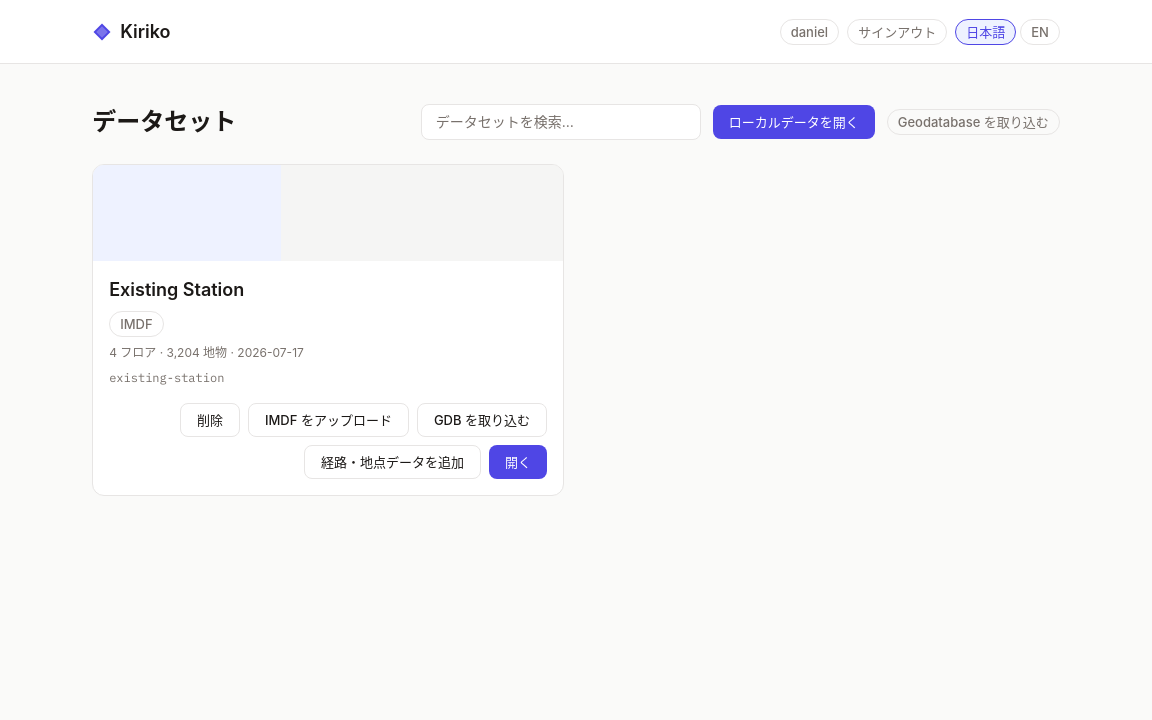
GalleryPage › opens IMDF version upload for the selected venue
Check: the heading "Existing Station" is shown, box [109,279,244,300]
Click the button "EN" at [1040, 32], box [1020,18,1060,44]
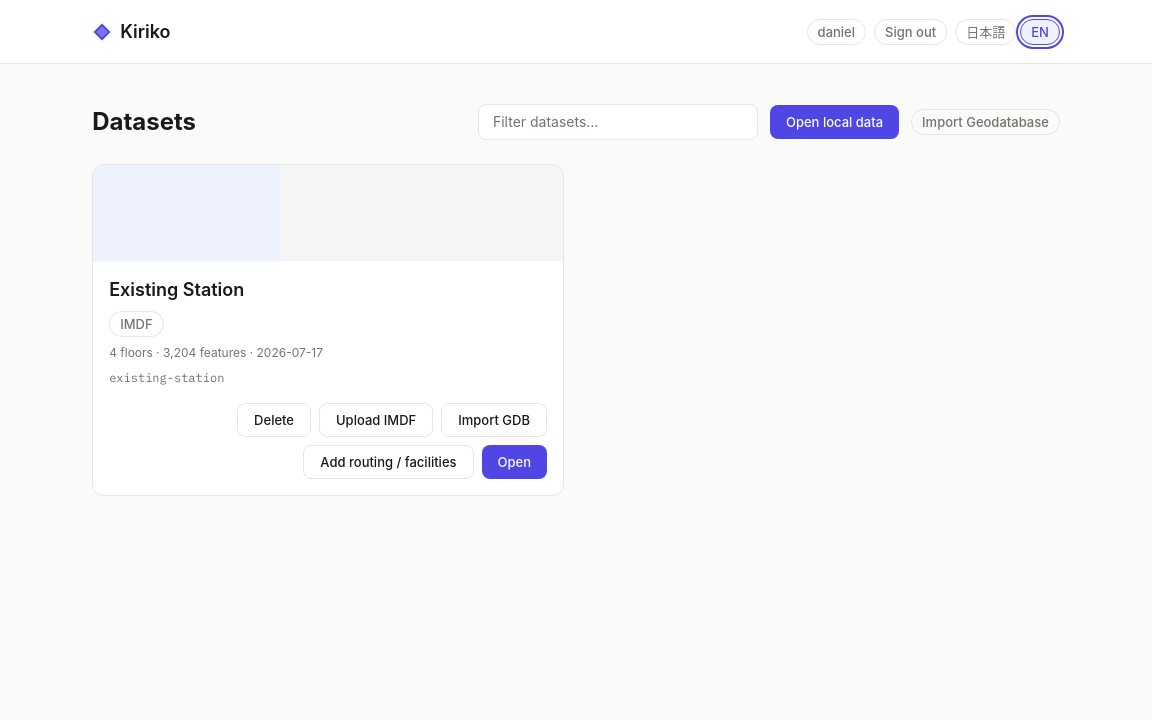
Click the button "Upload IMDF" at [376, 420], box [319,403,433,437]
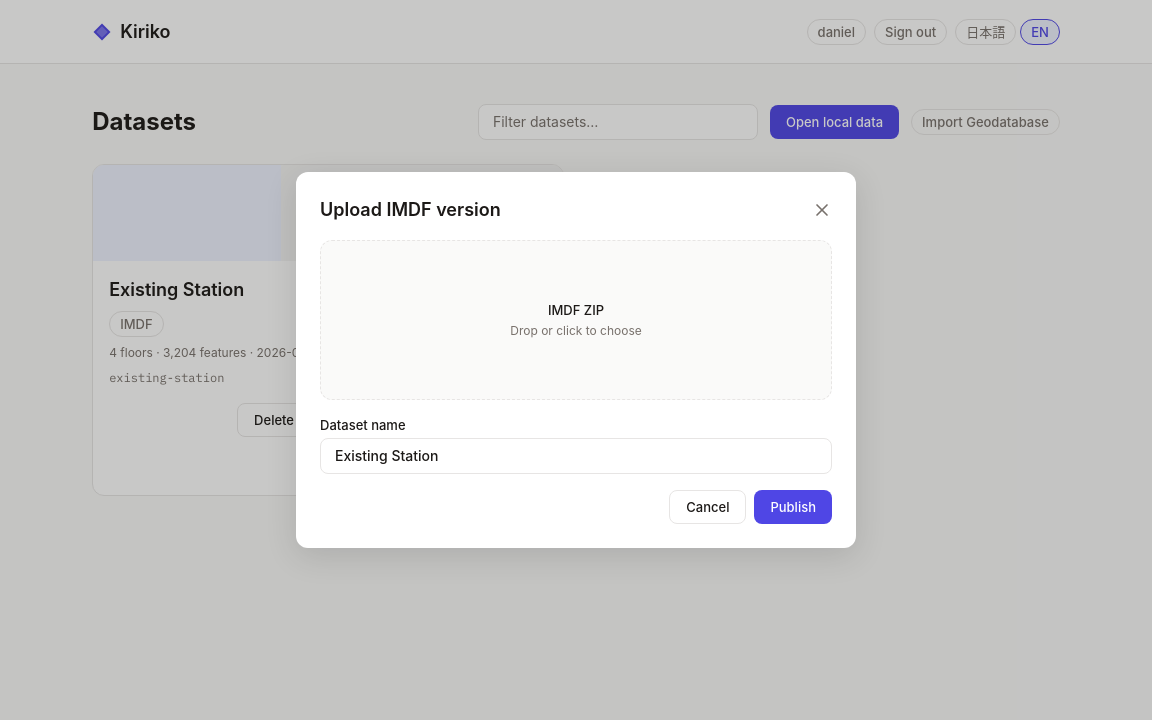
Check: the dialog "Upload IMDF version" is shown, box [296,172,856,548]
Check: the field labelled "Dataset name" holds "Existing Station", box [333,445,819,467]
